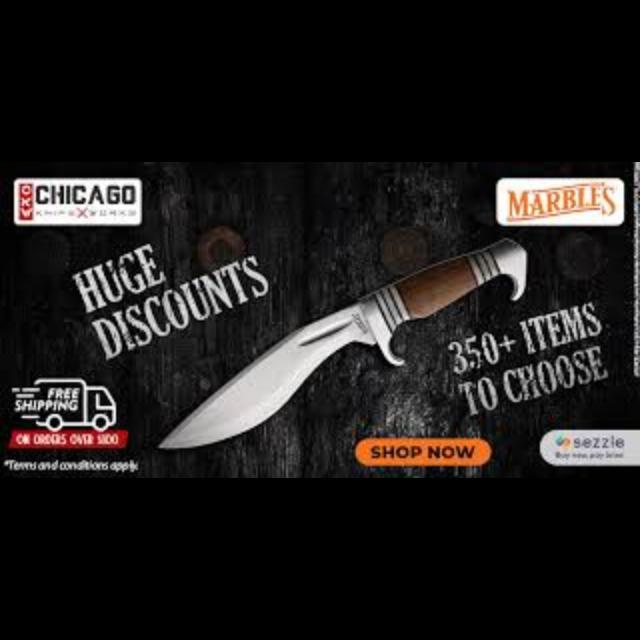knife: (154, 236, 528, 450)
